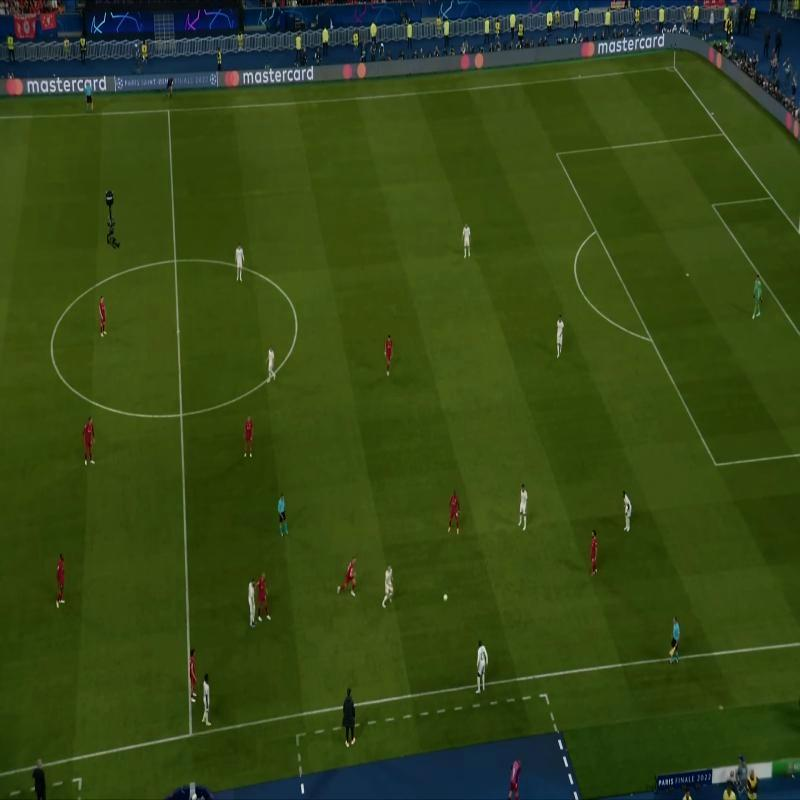1: (666, 60, 682, 75)
10: (589, 224, 604, 238)
11: (644, 333, 660, 350)
12: (708, 456, 724, 473)
13: (161, 103, 175, 118)
14: (168, 254, 183, 268)
15: (173, 407, 190, 423)
16: (182, 725, 202, 744)
2: (716, 125, 732, 143)
3: (766, 191, 781, 206)
7: (706, 199, 720, 213)
9: (550, 146, 564, 162)
c: (42, 338, 60, 356), (288, 316, 304, 330)
